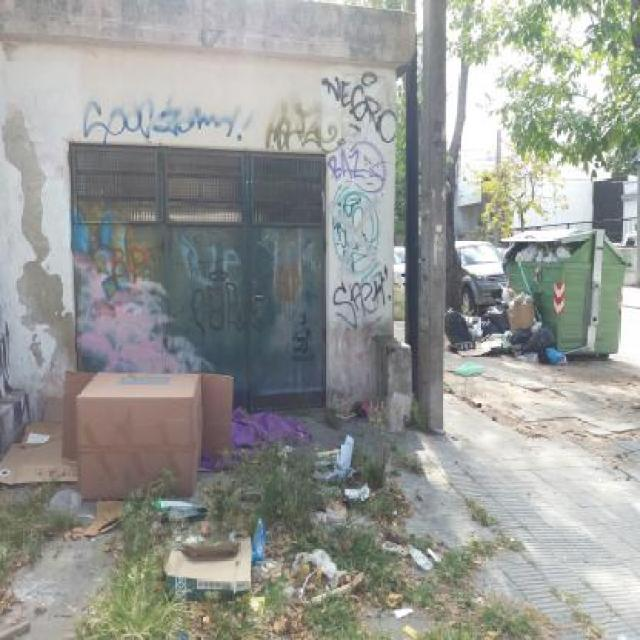garbage: (3, 377, 427, 636), (443, 292, 566, 370), (508, 243, 565, 260)
